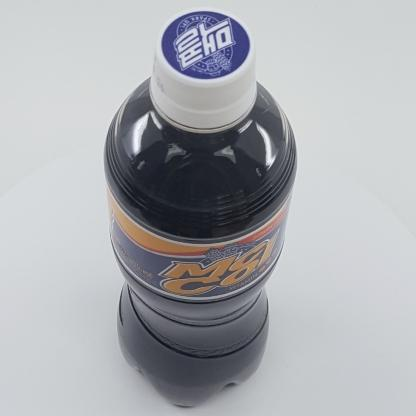-----500ML: (103, 6, 297, 406)
